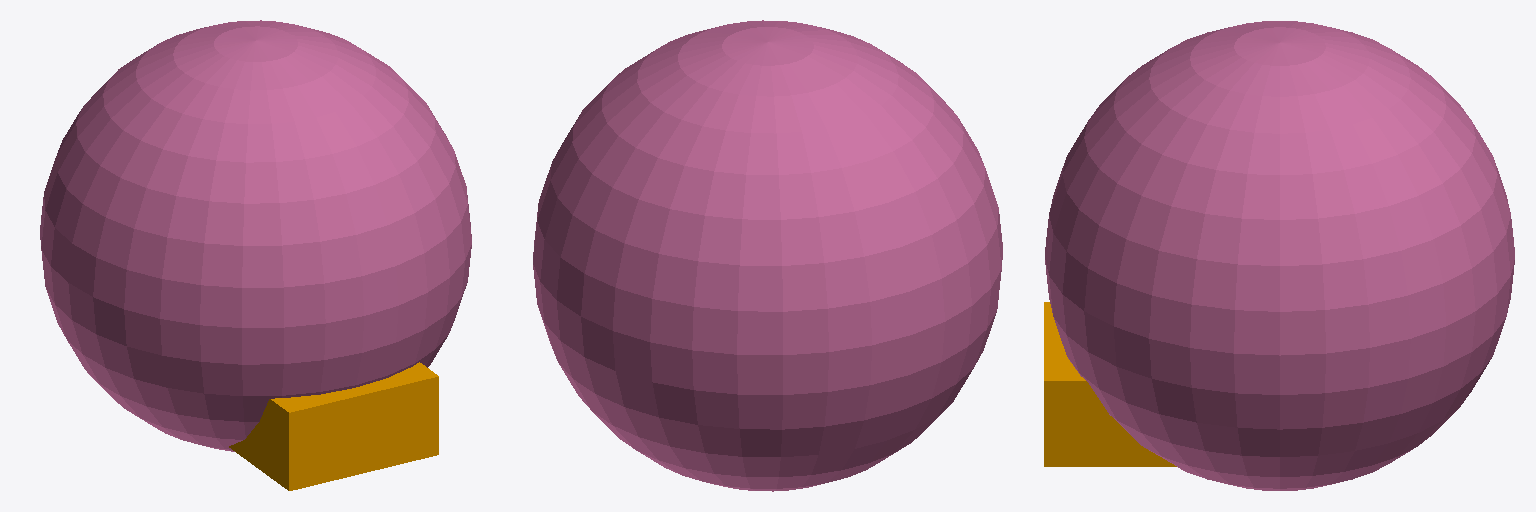
robot.urdf — two_finger_gripper:
<?xml version="1.0"?>
<robot name="two_finger_gripper">
  <link name="gripper_base">
    <inertial><mass value="0.1"/><inertia ixx="1e-4" ixy="0" ixz="0" iyy="1e-4" iyz="0" izz="1e-4"/></inertial>
    <visual>
      <origin xyz="0 0 0" rpy="0 0 0"/>
      <geometry><box size="0.04 0.04 0.02"/></geometry>
    </visual>
    <collision>
      <origin xyz="0 0 0" rpy="0 0 0"/>
      <geometry><box size="0.04 0.04 0.02"/></geometry>
    </collision>
  </link>
  <link name="palm">
    <inertial><mass value="0.1"/><inertia ixx="1e-4" ixy="0" ixz="0" iyy="1e-4" iyz="0" izz="1e-4"/></inertial>
    <collision>
      <geometry>
        <mesh filename="package://two_finger_gripper_description/meshes/collision/palm.stl" scale="0.001 0.001 0.001"/>
      </geometry>
    </collision>
  </link>
  <link name="left_finger">
    <inertial><mass value="0.1"/><inertia ixx="1e-4" ixy="0" ixz="0" iyy="1e-4" iyz="0" izz="1e-4"/></inertial>
    <collision>
      <origin xyz="0 0 0.04" rpy="0 0 0"/>
      <geometry>
        <mesh filename="package://two_finger_gripper_description/meshes/collision/finger.stl" scale="0.001 0.001 0.001"/>
      </geometry>
    </collision>
  </link>
  <link name="right_finger">
    <inertial><mass value="0.1"/><inertia ixx="1e-4" ixy="0" ixz="0" iyy="1e-4" iyz="0" izz="1e-4"/></inertial>
    <collision>
      <origin xyz="0 0 0.04" rpy="0 0 0"/>
      <geometry>
        <mesh filename="package://two_finger_gripper_description/meshes/collision/finger.stl" scale="0.001 0.001 0.001"/>
      </geometry>
    </collision>
  </link>
  <link name="left_tip">
    <collision>
      <origin xyz="0 0 0.005" rpy="0 0 0"/>
      <geometry><box size="0.02 0.02 0.01"/></geometry>
    </collision>
  </link>
  <link name="right_tip">
    <collision>
      <origin xyz="0 0 0.005" rpy="0 0 0"/>
      <geometry><box size="0.02 0.02 0.01"/></geometry>
    </collision>
  </link>
  <link name="marker_link">
    <visual>
      <geometry>
        <mesh filename="package://two_finger_gripper_description/meshes/visual/marker.stl" scale="0.001 0.001 0.001"/>
      </geometry>
    </visual>
  </link>
  <link name="tool0"/>

  <joint name="base_joint" type="fixed">
    <parent link="gripper_base"/>
    <child link="palm"/>
    <origin xyz="0 0 0.01" rpy="0 0 0"/>
  </joint>
  <joint name="left_finger_joint" type="revolute">
    <parent link="palm"/>
    <child link="left_finger"/>
    <origin xyz="0.03 0 0.05" rpy="0 0 0"/>
    <axis xyz="0 1 0"/>
    <limit lower="0" upper="0.8" effort="10" velocity="1"/>
  </joint>
  <joint name="right_finger_joint" type="revolute">
    <parent link="palm"/>
    <child link="right_finger"/>
    <origin xyz="-0.03 0 0.05" rpy="0 0 0"/>
    <axis xyz="0 1 0"/>
    <limit lower="0" upper="0.8" effort="10" velocity="1"/>
    <mimic joint="left_finger_joint" multiplier="-1" offset="0"/>
  </joint>
  <joint name="left_tip_joint" type="fixed">
    <parent link="left_finger"/>
    <child link="left_tip"/>
    <origin xyz="0 0 0.08" rpy="0 0 0"/>
  </joint>
  <joint name="right_tip_joint" type="fixed">
    <parent link="right_finger"/>
    <child link="right_tip"/>
    <origin xyz="0 0 0.08" rpy="0 0 0"/>
  </joint>
  <joint name="marker_joint" type="fixed">
    <parent link="palm"/>
    <child link="marker_link"/>
    <origin xyz="0 0.03 0.02" rpy="0 0 0"/>
  </joint>
  <joint name="tool_joint" type="fixed">
    <parent link="palm"/>
    <child link="tool0"/>
    <origin xyz="0 0 0.15" rpy="0 0 0"/>
  </joint>

  <transmission name="left_finger_transmission">
    <type>transmission_interface/SimpleTransmission</type>
    <joint name="left_finger_joint"/>
  </transmission>
  <gazebo reference="palm">
    <material>Gazebo/Grey</material>
  </gazebo>
</robot>

--- What the picture shows (computed from the rendered views, not written in the file) ---
Views: 3 orthographic renders of the robot side by side, from view 1: azimuth 30°, elevation 25°; view 2: azimuth 150°, elevation 25°; view 3: azimuth 270°, elevation 25°.
Model two_finger_gripper with 8 links and 7 joints (2 revolute, 5 fixed), rooted at gripper_base, posed all joints at 0.
Links seen in each view (by area): view 1: marker_link, gripper_base; view 2: marker_link; view 3: marker_link, gripper_base.
Boxes of the visible links, x1,y1,x2,y2 form: marker_link: [40, 20, 471, 451]; gripper_base: [229, 362, 438, 490]; marker_link: [533, 20, 1002, 491]; marker_link: [1045, 21, 1514, 490]; gripper_base: [1044, 302, 1176, 466].
Size in the robot's own frame: 0.1 by 0.1 by 0.1 metres.
1 mesh visuals loaded from 1 distinct referenced files (1 binary STL).
